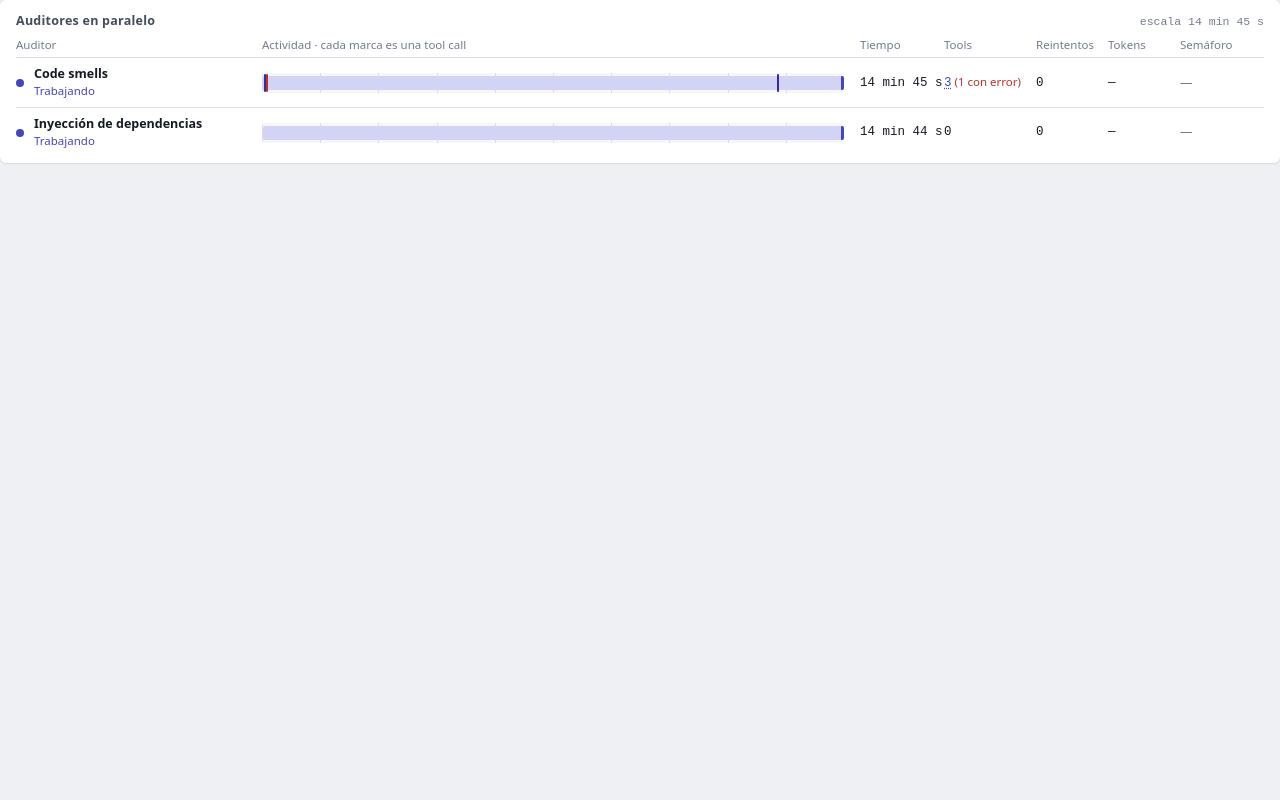
ToolCallDetail › una marca del carril abre el detalle con paso, entrada, salida truncada y «Copiar»
What coordinates should you click on to do the following:
click the button titled "view_file · "
I would click on:
 (778, 83)
Its box is 775,74 -> 782,92.
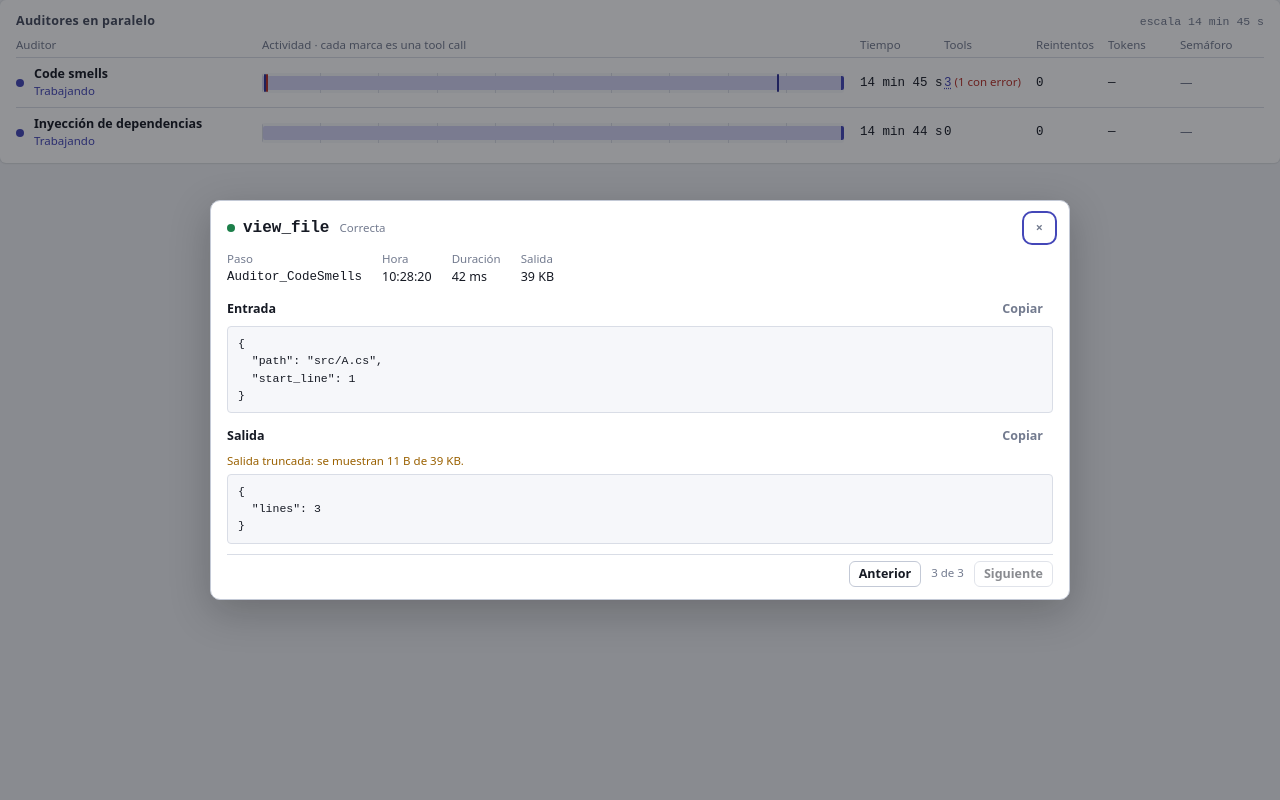
Now the text "Auditor_CodeSmells" is shown, box 227,268 -> 362,286
Now the text "42 ms" is shown, box 452,268 -> 487,285
Now the text "{ \"path\": \"src/A.cs\", \"start_line\": 1 }" is shown, box 227,326 -> 1053,413
What coordinates should you click on to do the following:
click the button with aria-label "Copiar la salida"
I would click on:
 (1023, 436)
Its box is 992,423 -> 1053,449.
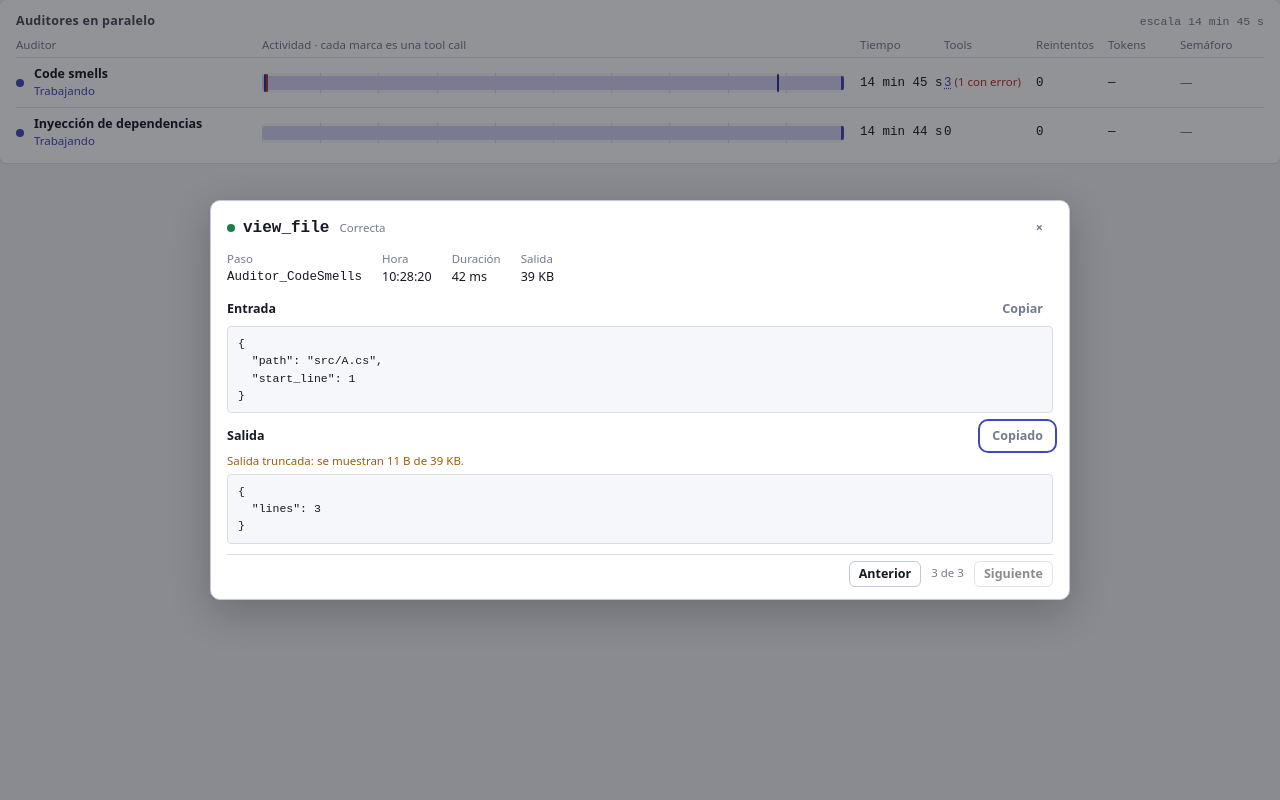
Now the button with aria-label "Copiar la salida" reads "Copiado", box 982,423 -> 1053,449
# «Anterior» va a la llamada previa del carril, que falló.
What coordinates should you click on to do the following:
click the button "Anterior"
I would click on:
 (885, 574)
Its box is 849,561 -> 921,587.
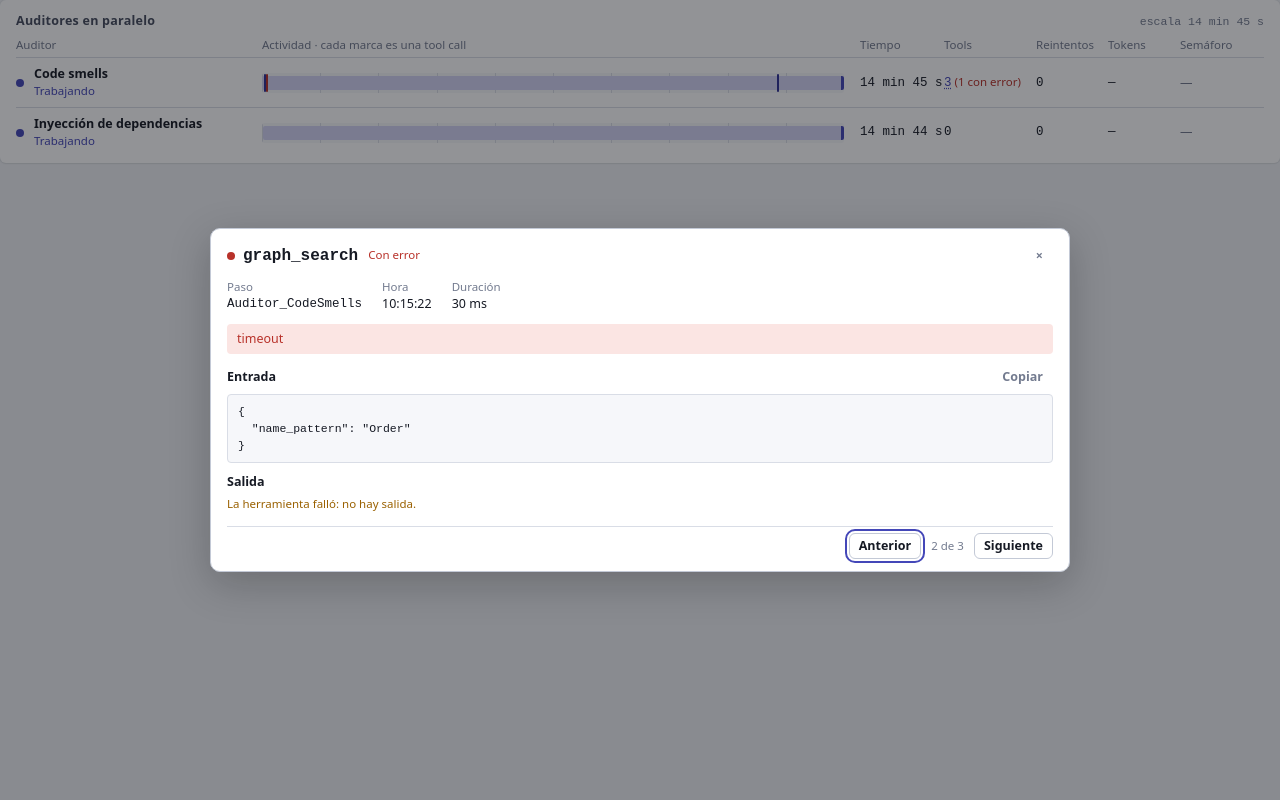
Now the dialog "graph_search" is shown, box 210,228 -> 1070,572
Now the message reads "timeout", box 237,330 -> 283,347
